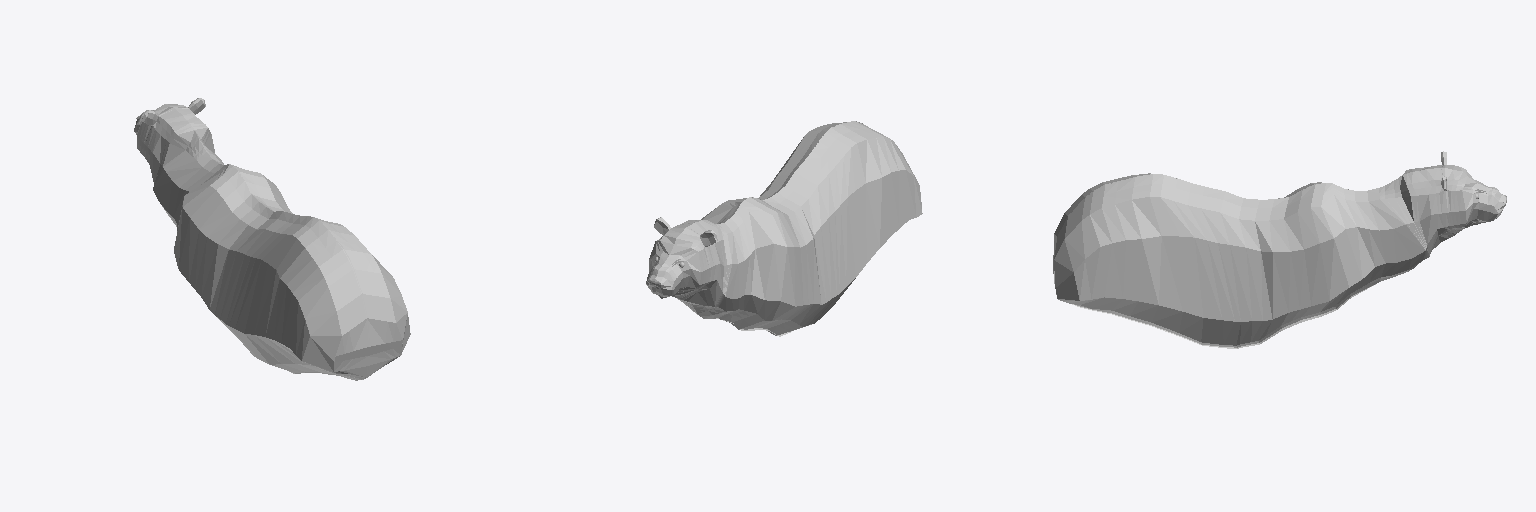
Rendered from body.obj.
3 views of the same model, side by side, from view 1: azimuth 30°, elevation 25°; view 2: azimuth 150°, elevation 25°; view 3: azimuth 270°, elevation 25° (orthographic).
Parts seen in each view (by area): view 1: polar_body:pSphere3; view 2: polar_body:pSphere3; view 3: polar_body:pSphere3.
Part boxes in pixels (x1,y1,x2,y2): polar_body:pSphere3: (134, 98, 410, 380); polar_body:pSphere3: (646, 121, 922, 336); polar_body:pSphere3: (1053, 151, 1506, 348).
Size of the model in its own units: 400 by 648 by 1446.